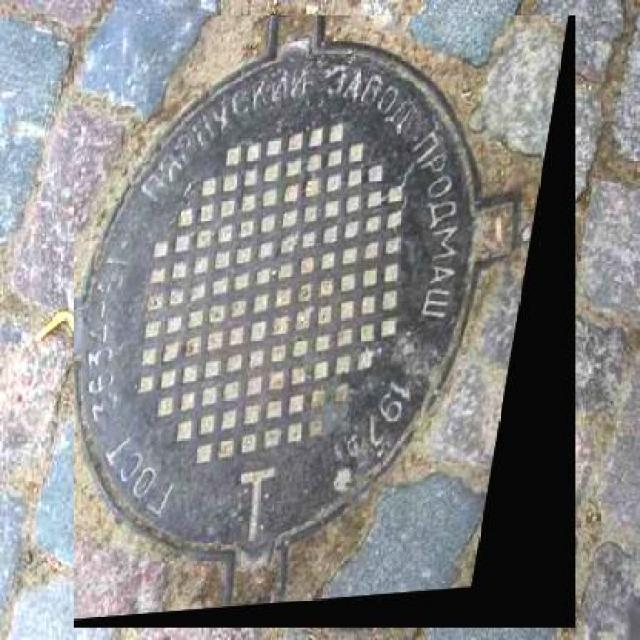Manhole: (74, 16, 576, 629)
